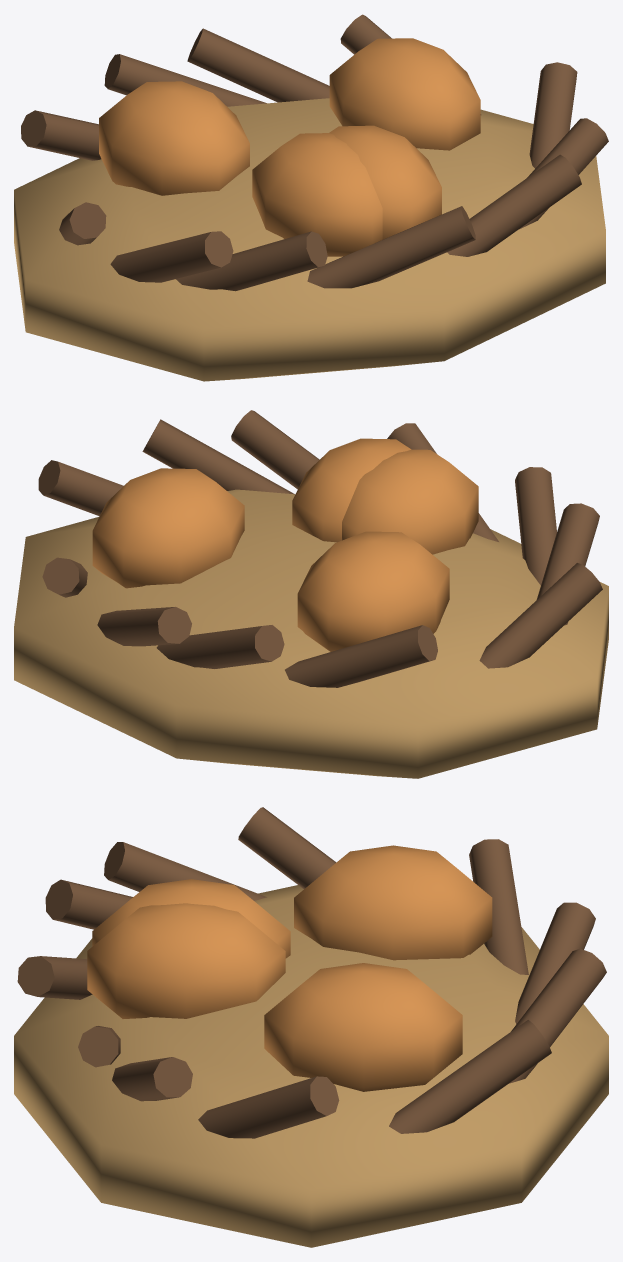
File: stash.glb
3 views of the same model, one above another, from view 1: azimuth 30°, elevation 25°; view 2: azimuth 150°, elevation 25°; view 3: azimuth 270°, elevation 25° (orthographic). The views are drawn at different scales.
Visible parts, largest first — view 1: Pile, Food0, Twig0; view 2: Pile, Food0, Twig0; view 3: Pile, Food0, Twig0.
Boxes of the visible parts, bbox=[...] form: Pile: bbox=[14, 98, 605, 381]; Food0: bbox=[99, 38, 480, 256]; Twig0: bbox=[21, 14, 608, 291]; Pile: bbox=[14, 489, 608, 778]; Food0: bbox=[92, 438, 478, 651]; Twig0: bbox=[38, 410, 602, 687]; Pile: bbox=[14, 885, 608, 1247]; Food0: bbox=[87, 845, 492, 1091]; Twig0: bbox=[17, 807, 606, 1138].
Size of the model in its own units: 1.05 by 0.4 by 0.856.
